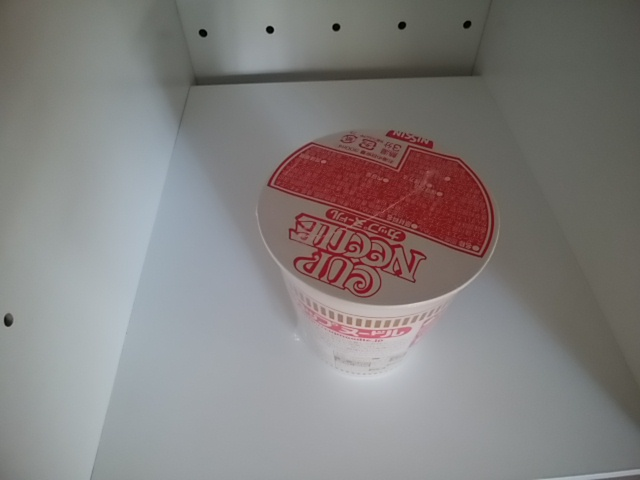cup-ramen: (252, 113, 507, 389)
